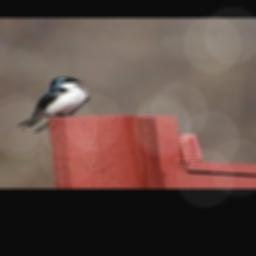Swallow: (16, 76, 92, 132)
